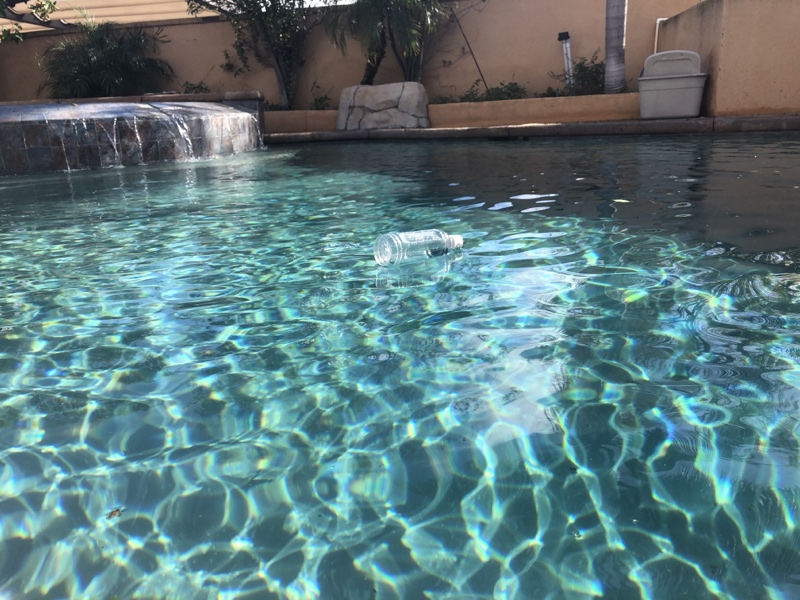Plastic Bottle: (371, 227, 467, 268)
